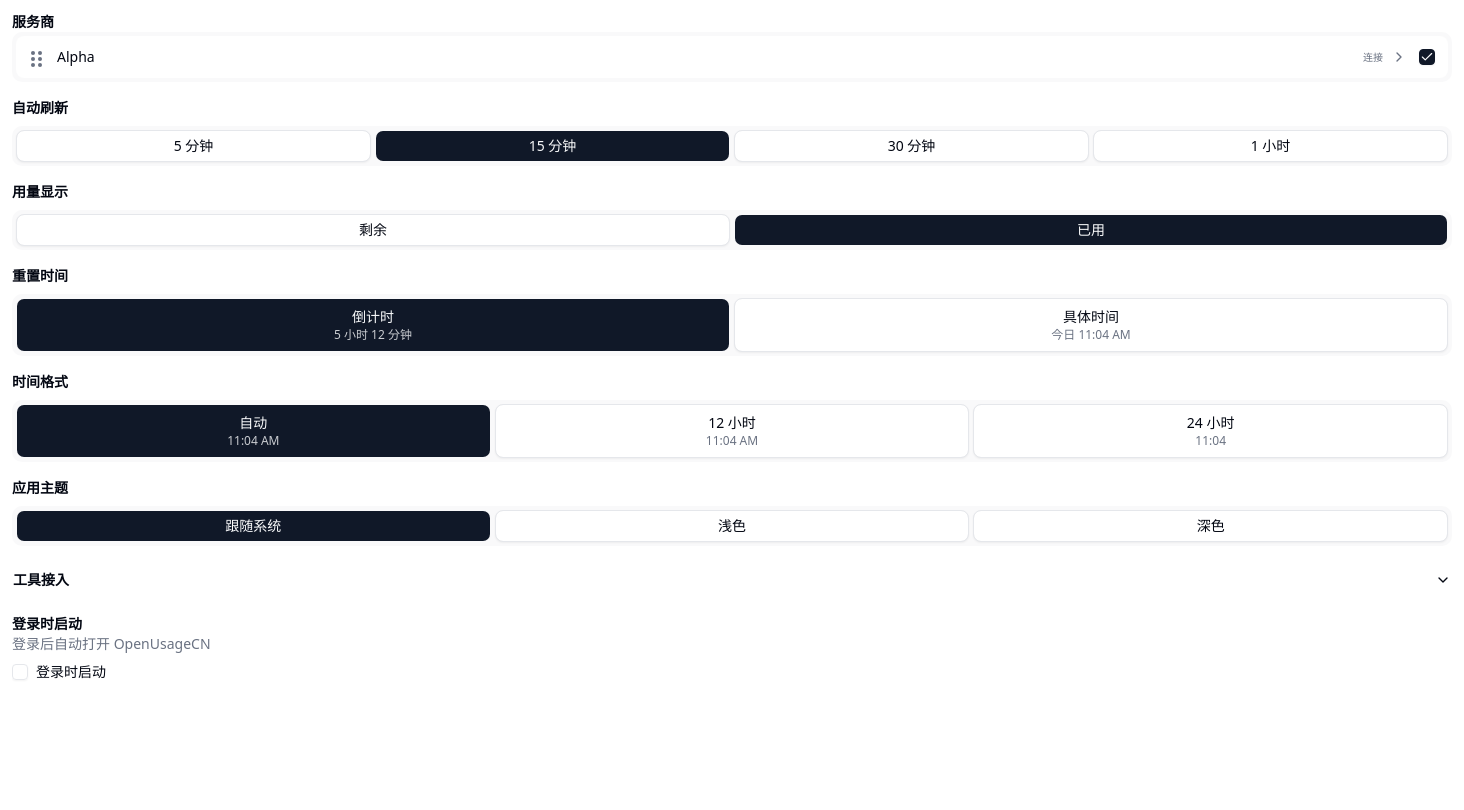
Scenario: SettingsPage › hides unsupported Windows settings while retaining core settings
Check: the text "本地 API" is not shown
Click the button "工具接入" at (41, 580), box top-left (12, 562), bottom-right (1452, 598)
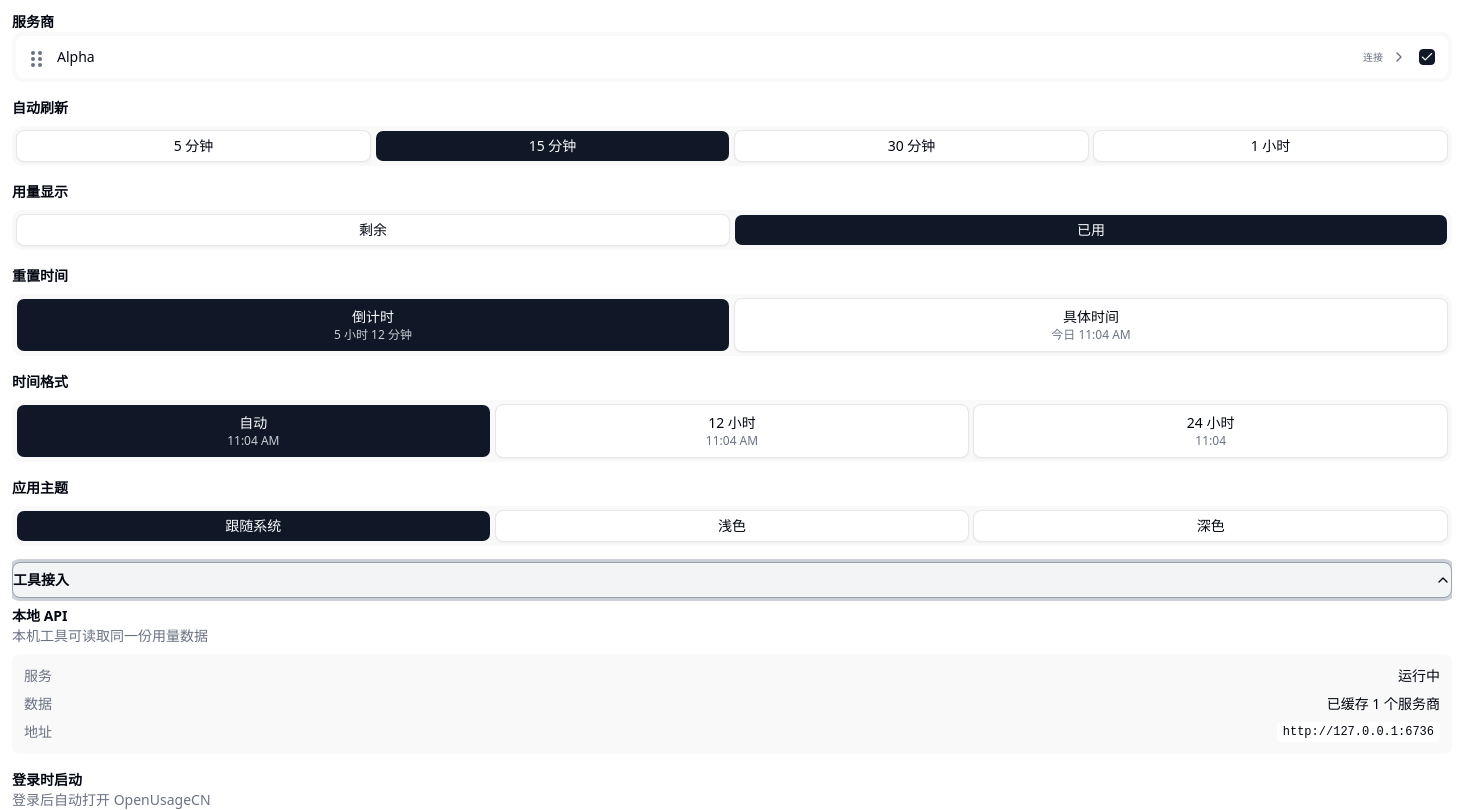
Check: the text "运行中" is shown, box top-left (1398, 666), bottom-right (1440, 686)
Check: the heading "本地 API" is shown, box top-left (12, 606), bottom-right (68, 625)
Check: the text "http://127.0.0.1:6736" is shown, box top-left (1277, 722), bottom-right (1440, 742)
